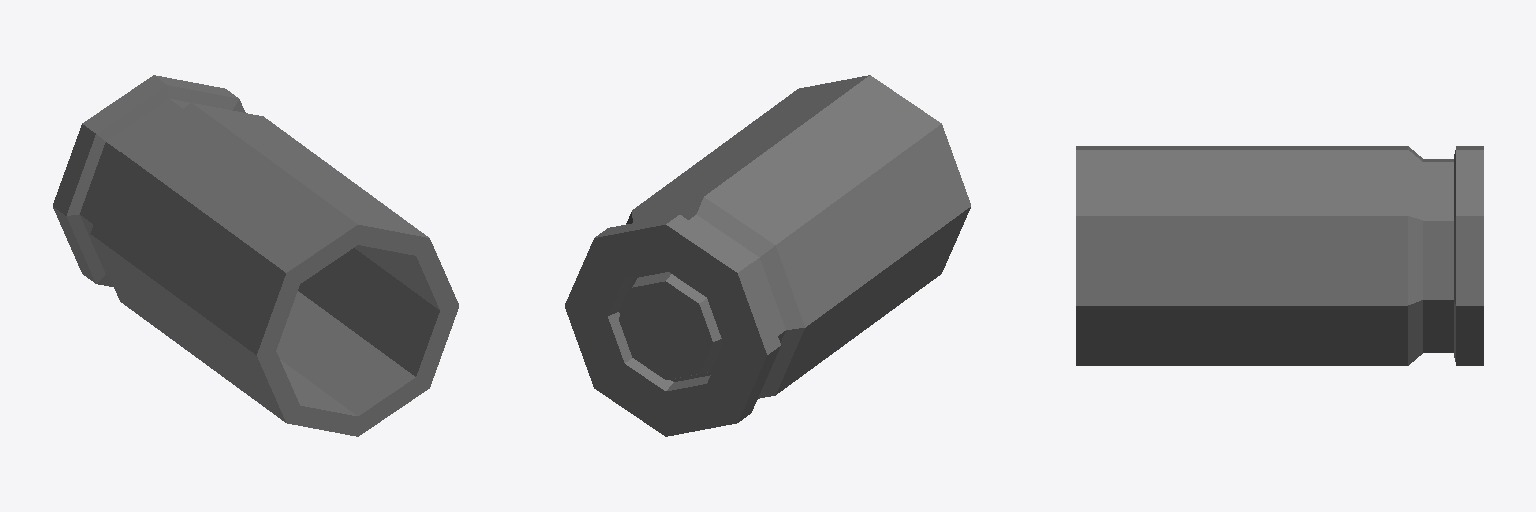
Rendered from Pistol_Bullet_Shell.obj.
3 renders of one model, left to right at view 1: azimuth 30°, elevation 25°; view 2: azimuth 150°, elevation 25°; view 3: azimuth 270°, elevation 25°, orthographic.
Visible parts, largest first — view 1: Bullet_Shell; view 2: Bullet_Shell; view 3: Bullet_Shell.
Part boxes in pixels (x1,y1,x2,y2): Bullet_Shell: (53,75,458,436); Bullet_Shell: (565,75,970,436); Bullet_Shell: (1076,146,1483,365).
Bounding box in the file's own units: 0.8685 × 0.8685 × 1.51.